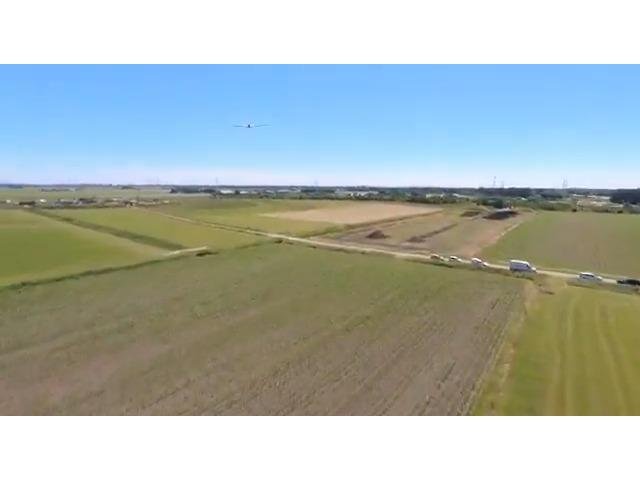Anti-Drone: (224, 118, 272, 143)
